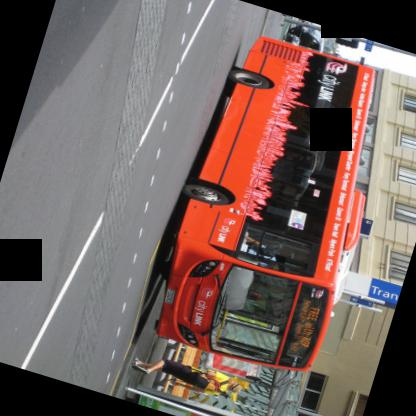backpack: (182, 371, 226, 394)
